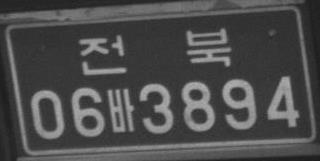0: (29, 89, 65, 139)
3: (139, 82, 175, 134)
4: (266, 75, 300, 128)
6: (69, 87, 106, 138)
8: (180, 80, 216, 132)
9: (221, 78, 257, 129)
바: (107, 88, 135, 133)
전북_D: (79, 26, 232, 75)
